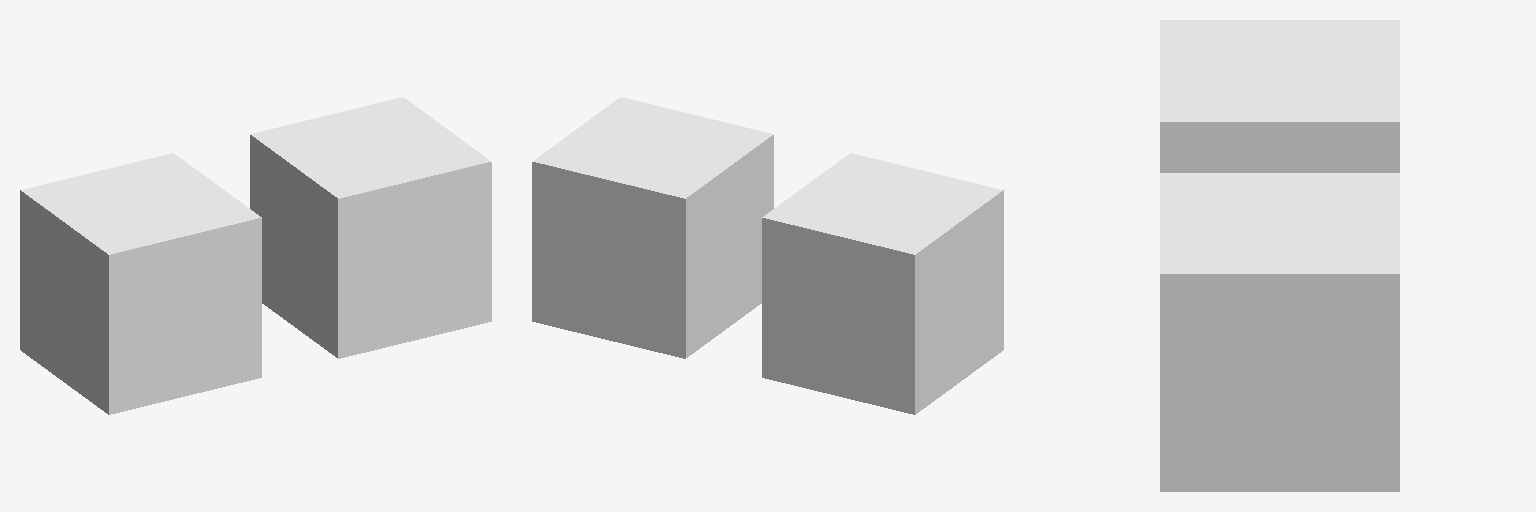
robot.urdf — box:
<?xml version="1.0" ?>
<robot name="box">
  <link name="base_link">
    <inertial>
      <origin rpy="0 0 0" xyz="0 0 0"/>
      <mass value="0"/>
      <inertia ixx="1.0" ixy="0.0" ixz="0.0" iyy="1.0" iyz="0.0" izz="1.0"/>
    </inertial>
    <visual>
      <origin rpy="0 0 0" xyz="0 0 0"/>
      <geometry>
        <mesh filename="box-T2F_N3F_V3F.obj" scale="1 1 1"/>
      </geometry>
      <material name="white">
        <color rgba="1 1 1 1"/>
      </material>
    </visual>
    <collision>
      <origin rpy="0 0 0" xyz="0 0 0"/>
      <geometry>
        <mesh filename="box-T2F_N3F_V3F.obj" scale="1 1 1"/>
      </geometry>
    </collision>
  </link>
  <link name="right_leg">
    <inertial>
      <origin rpy="0 0 0" xyz="2 0 0"/>
      <mass value="10"/>
      <inertia ixx="1.0" ixy="0.0" ixz="0.0" iyy="1.0" iyz="0.0" izz="1.0"/>
    </inertial>
    <visual>
      <origin rpy="0 0 0" xyz="2 0 0"/>
      <geometry>
        <mesh filename="box-T2F_N3F_V3F.obj" scale="1 1 1"/>
      </geometry>
      <material name="white">
        <color rgba="1 1 1 1"/>
      </material>
    </visual>
    <collision>
      <origin rpy="0 0 0" xyz="2 0 0"/>
      <geometry>
        <mesh filename="box-T2F_N3F_V3F.obj" scale="1 1 1"/>
      </geometry>
    </collision>
  </link>
  <joint name="base_to_right_leg" type="revolute">
    <axis xyz="0 1 0"/>
    <limit effort="1000.0" lower="-1.57" upper="1.57" velocity="1000"/>
    <origin rpy="0 0 0" xyz="1 0 0"/>
    <parent link="base_link"/>
    <child link="right_leg"/>
  </joint>
</robot>

--- What the picture shows (computed from the rendered views, not written in the file) ---
3 views of the same robot in one strip: view 1: azimuth 30°, elevation 25°; view 2: azimuth 150°, elevation 25°; view 3: azimuth 270°, elevation 25° (orthographic).
Robot: box — 2 links, 1 joints (1 revolute); root link base_link; default pose: every joint at zero.
Links seen in each view (by area): view 1: base_link, right_leg; view 2: base_link, right_leg; view 3: right_leg, base_link.
Boxes of the visible links, x1,y1,x2,y2 form: base_link: (20,153,261,414); right_leg: (250,97,491,358); base_link: (762,153,1003,414); right_leg: (532,97,773,358); right_leg: (1160,173,1399,491); base_link: (1160,20,1399,172).
Size in the robot's own frame: 5 by 2 by 2 metres.
2 mesh visuals loaded from 1 distinct referenced files (1 OBJ).